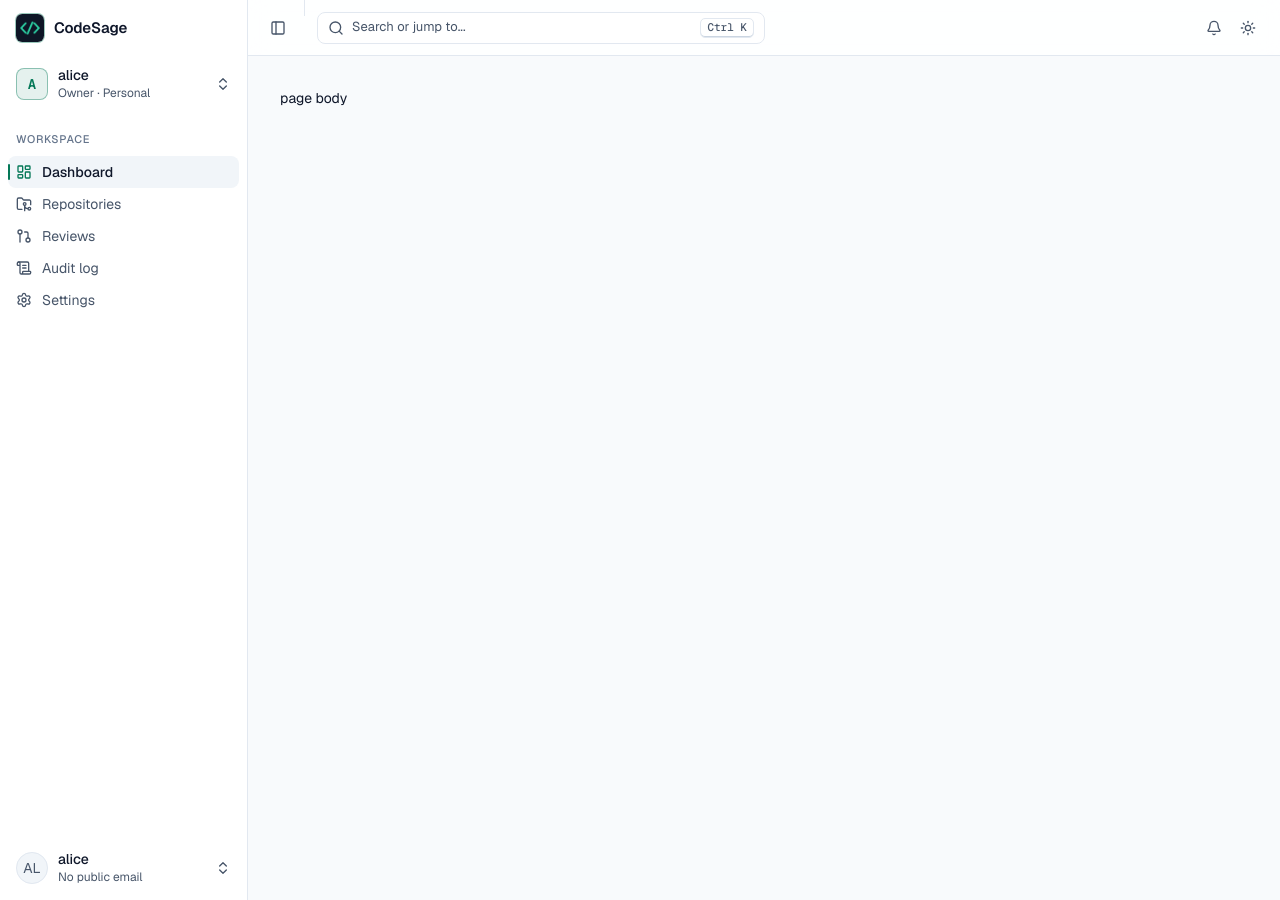
Test: app shell › opens the palette from the search button and from Ctrl+K
This screenshot has width=1280, height=900.
Click the button "Search or jump to... Ctrl K". click: point(409, 27)
box: x1=317 y1=12 x2=765 y2=44
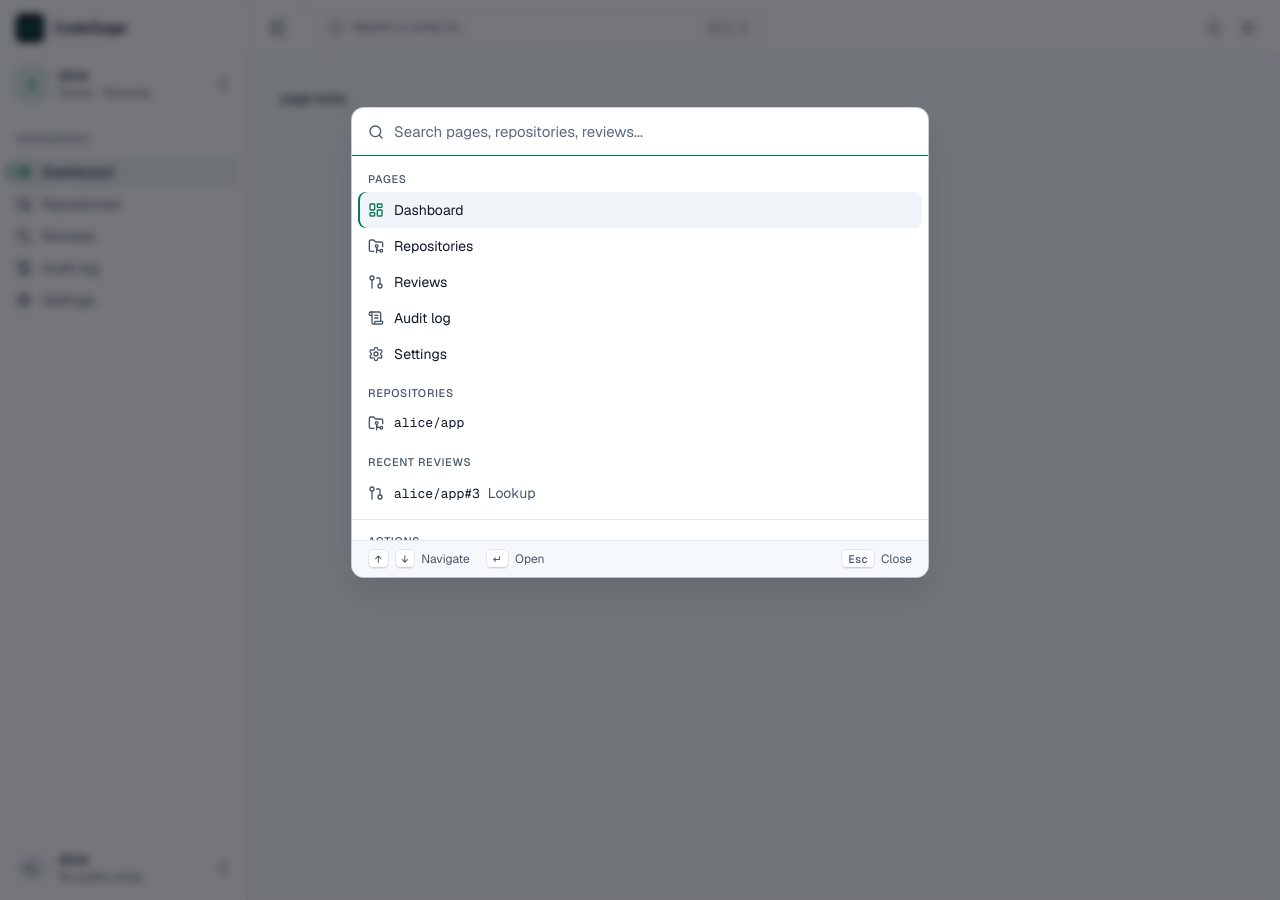
Expected: the dialog named "Command palette" is shown, x1=352 y1=108 x2=928 y2=577
Press Escape
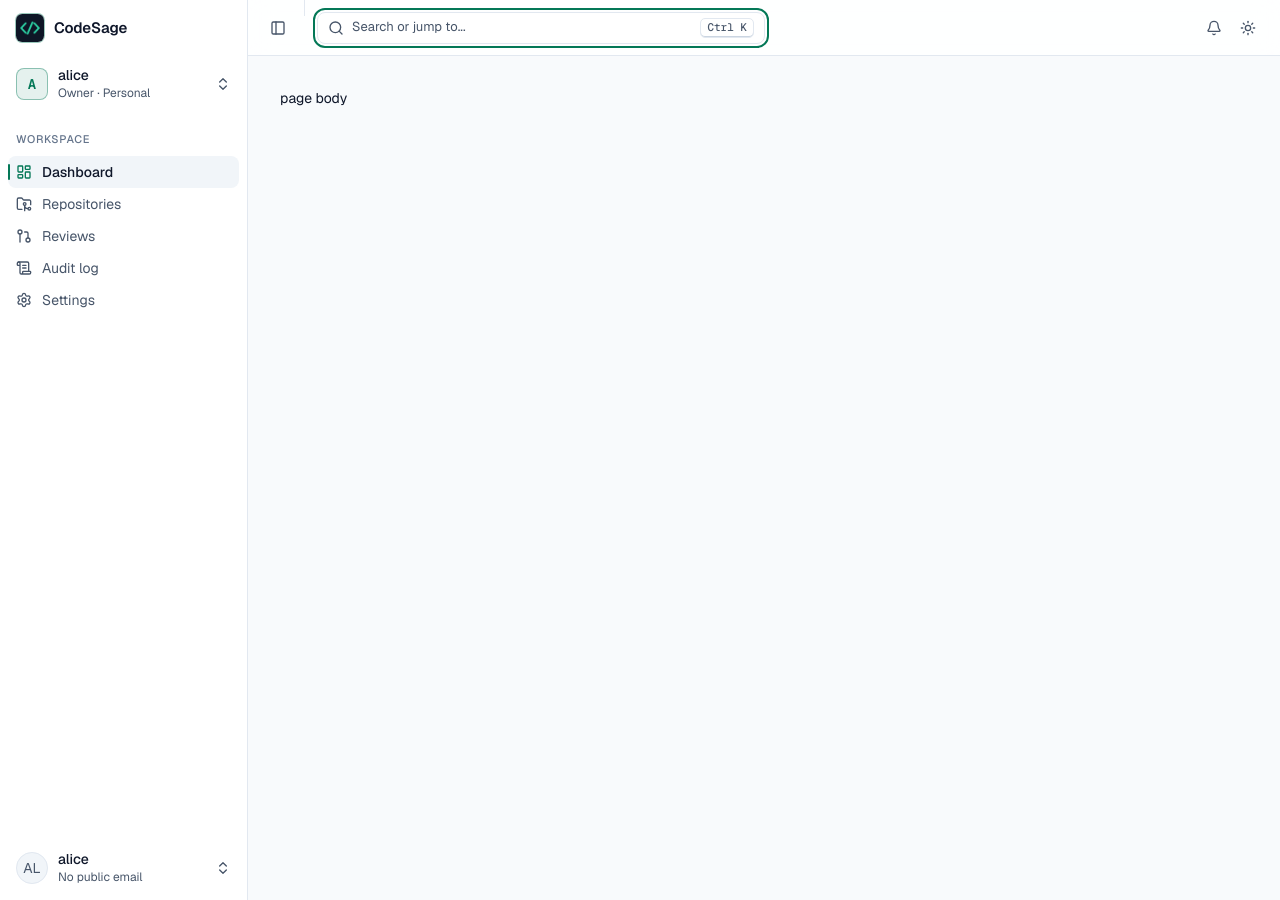
Expected: the dialog is gone
Type keys "{Control>}k{/Control}"
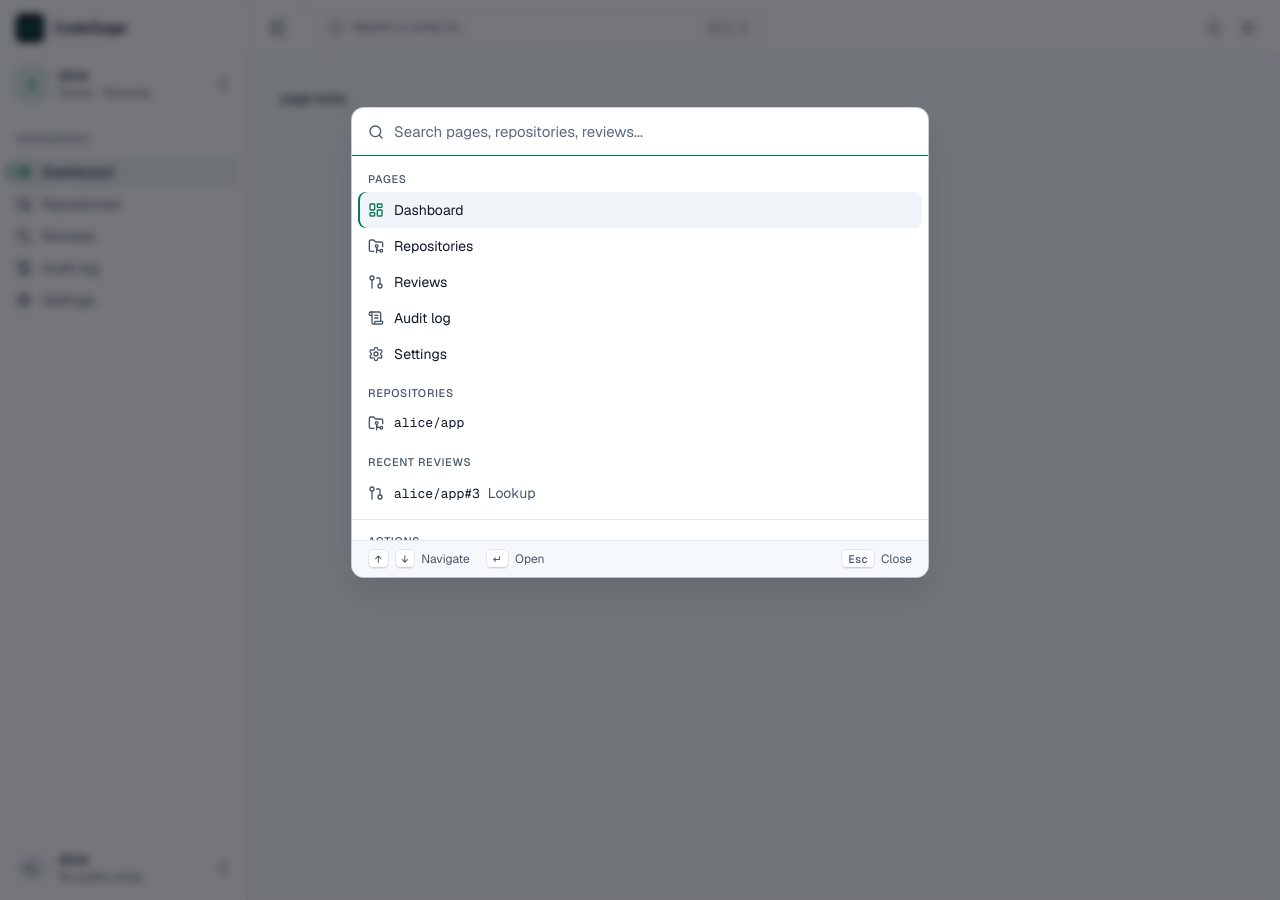
Expected: the dialog named "Command palette" is shown, x1=352 y1=108 x2=928 y2=577
